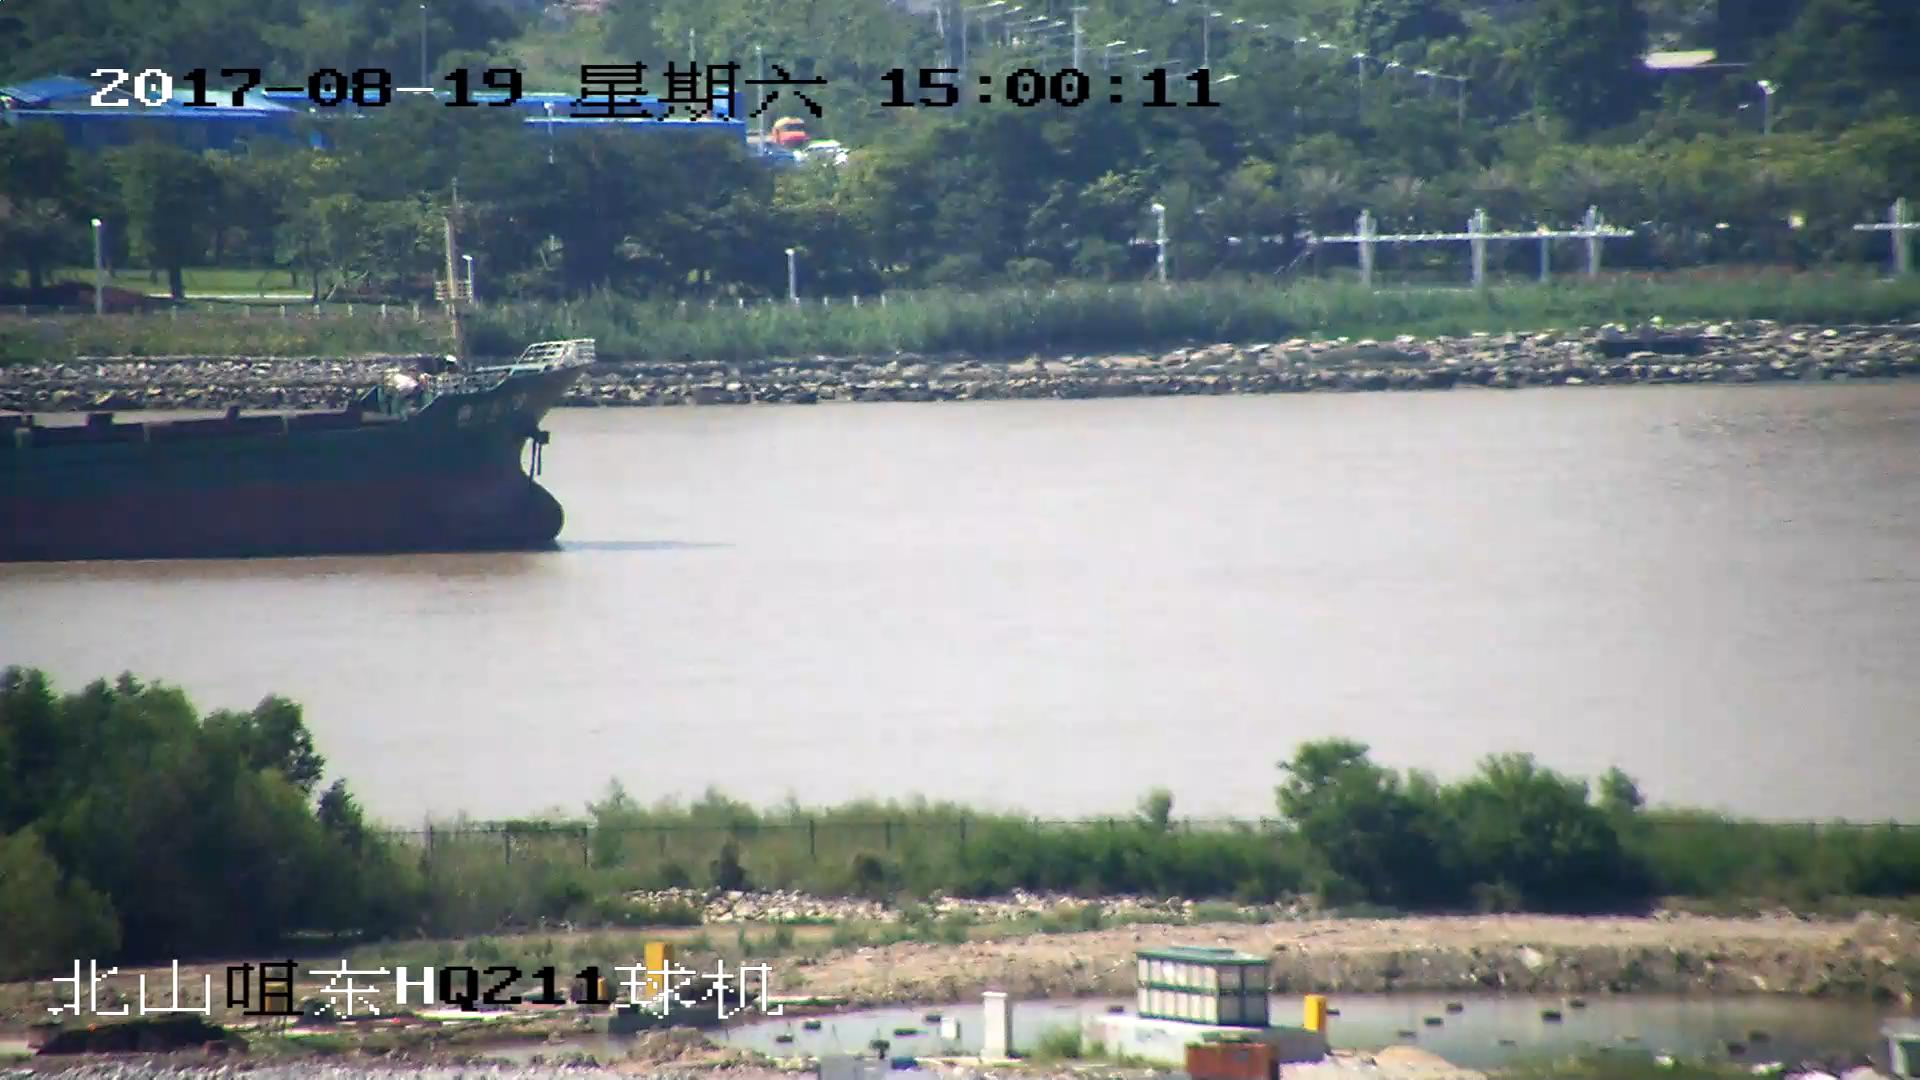general cargo ship: (1, 339, 598, 551)
